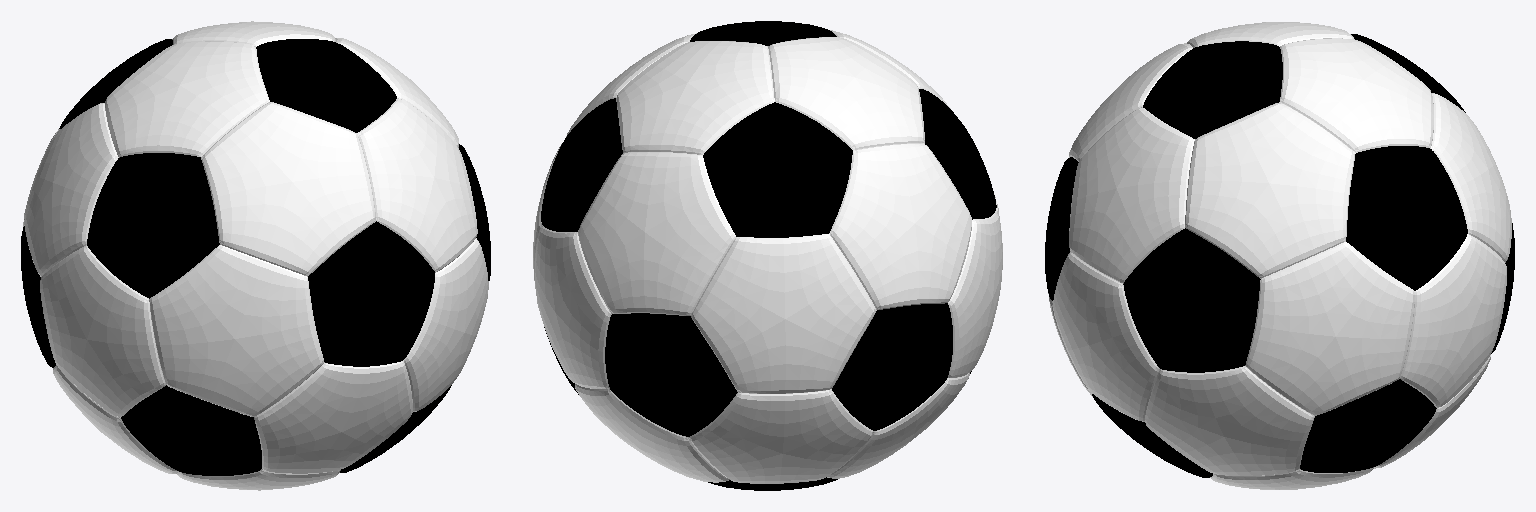
File: Ball.obj
The picture shows the model from 3 angles: view 1: azimuth 30°, elevation 25°; view 2: azimuth 150°, elevation 25°; view 3: azimuth 270°, elevation 25°; orthographic projection.
Visible parts, largest first — view 1: Ball Ball_CTRL; view 2: Ball Ball_CTRL; view 3: Ball Ball_CTRL.
Boxes of the visible parts, box(x1,y1,x2,y2) form: Ball Ball_CTRL: box(21, 21, 490, 490); Ball Ball_CTRL: box(533, 21, 1002, 490); Ball Ball_CTRL: box(1045, 22, 1514, 489).
Size of the model in its own units: 2.04 by 2.04 by 2.04.